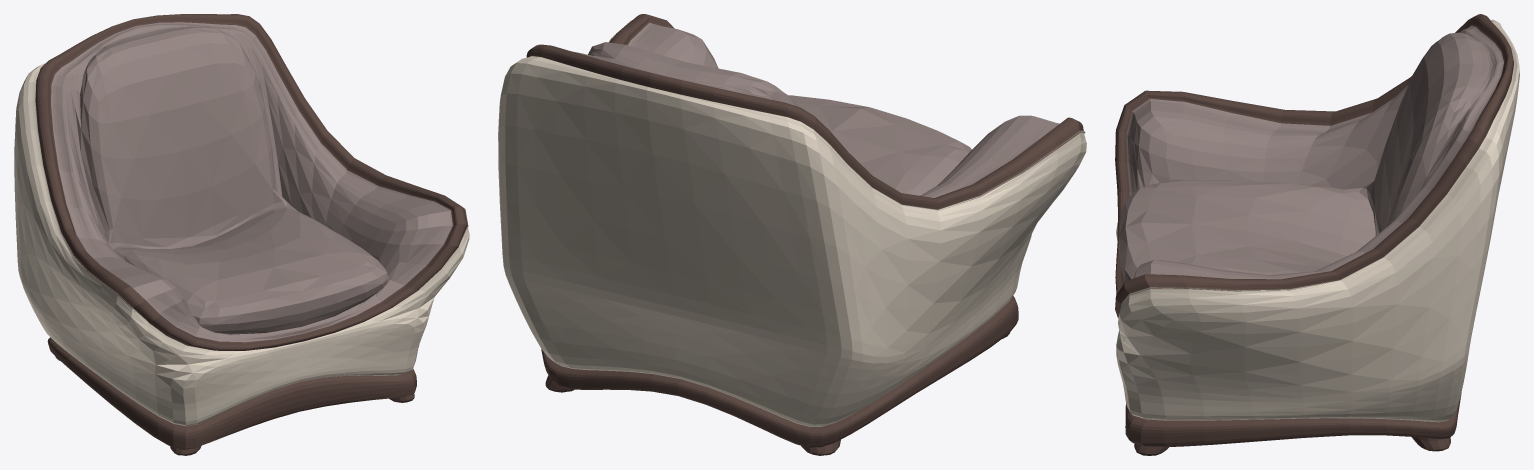
Rendered from lounge_chair.glb.
3 renders of one model, left to right at view 1: azimuth 30°, elevation 25°; view 2: azimuth 150°, elevation 25°; view 3: azimuth 270°, elevation 25°, orthographic. The views are drawn at different scales.
Visible parts, largest first — view 1: Armchair; view 2: Armchair; view 3: Armchair.
Part boxes in pixels (x1=…): Armchair: x1=14, y1=14, x2=469, y2=455; Armchair: x1=498, y1=14, x2=1086, y2=455; Armchair: x1=1115, y1=14, x2=1519, y2=455.
Bounding box in the file's own units: 0.804 × 0.6398 × 0.7054.
